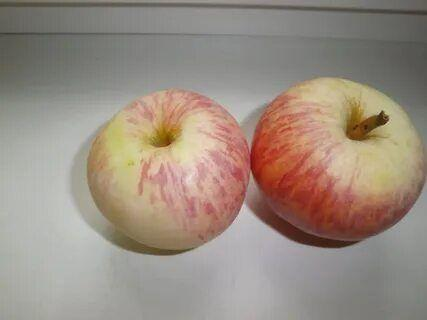Apple: (250, 78, 426, 242), (88, 90, 250, 252)
